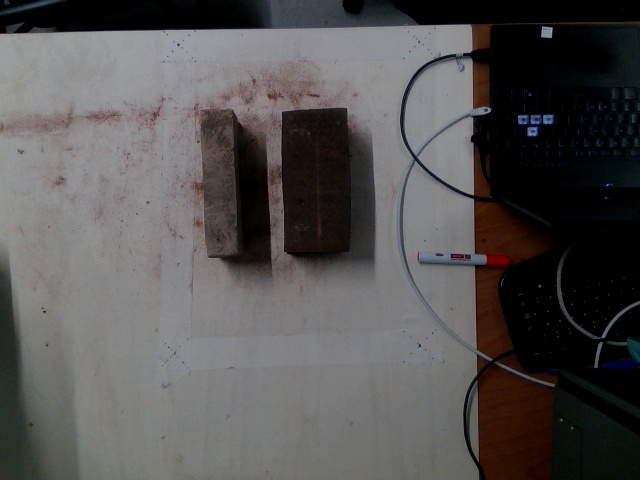brick: (280, 108, 348, 250)
brick-side: (202, 109, 234, 253)
